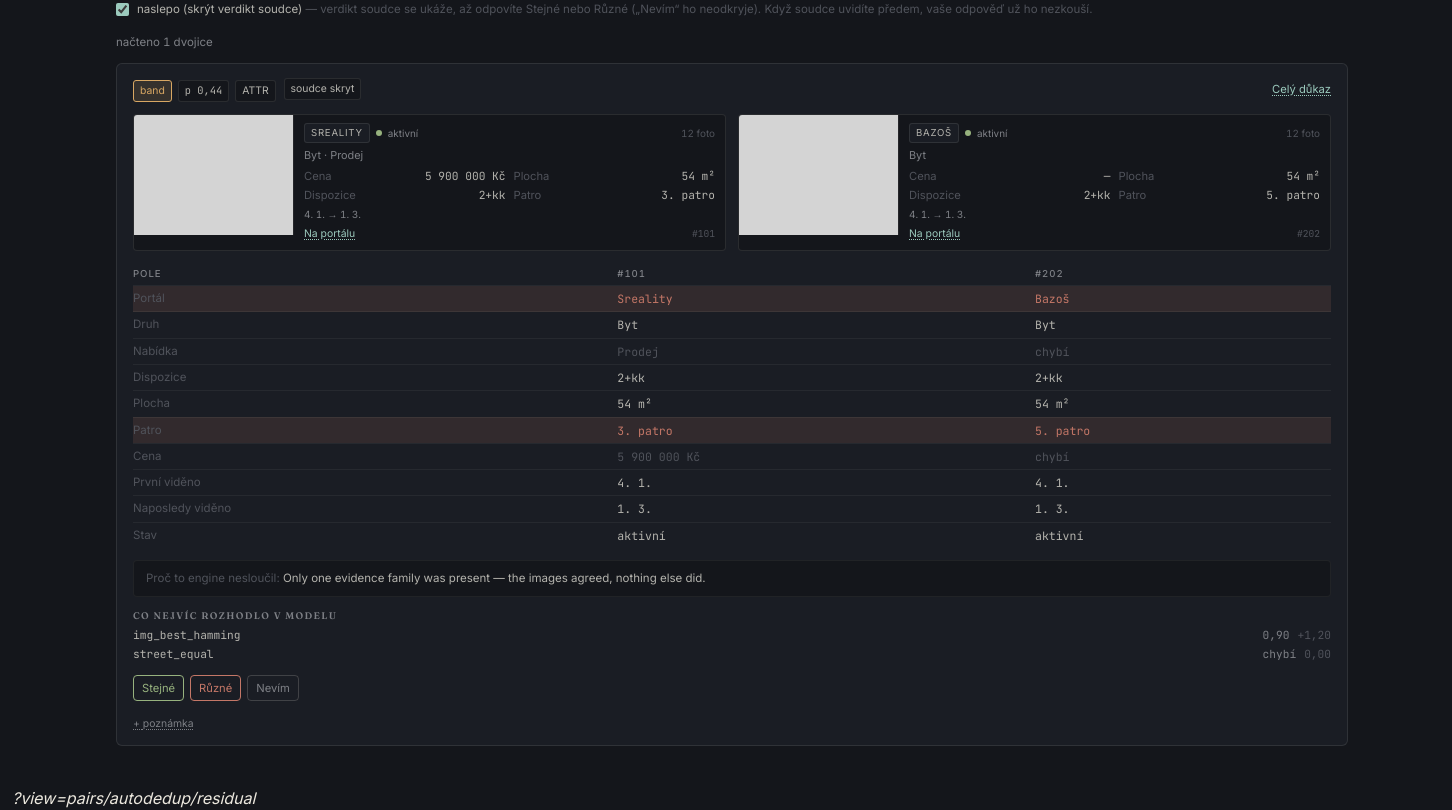
<AutodedupResidual> › hides every judge artefact by default and reveals it once the pair is ruled
(page scrolled)
Check: the text "soudce: nerozhodl" is not shown
Check: the text "different floor" is not shown
Step 1. Click the button "Stejné" → (159, 688), box [133,674,184,701]
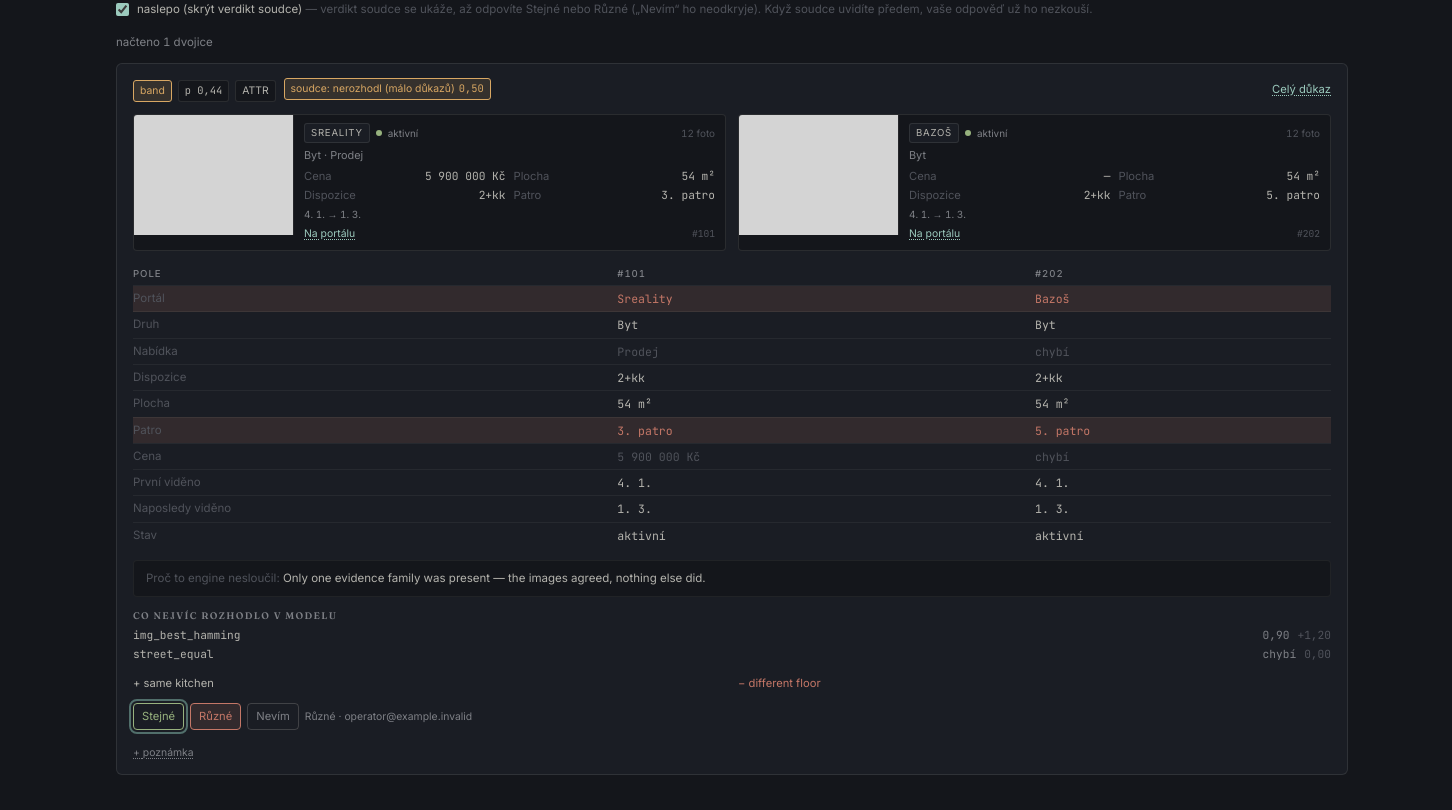
Check: the text "soudce: nerozhodl (málo důkazů) 0,50" is shown, box [284,78,491,100]
Check: the text "soudce skryt" is gone
